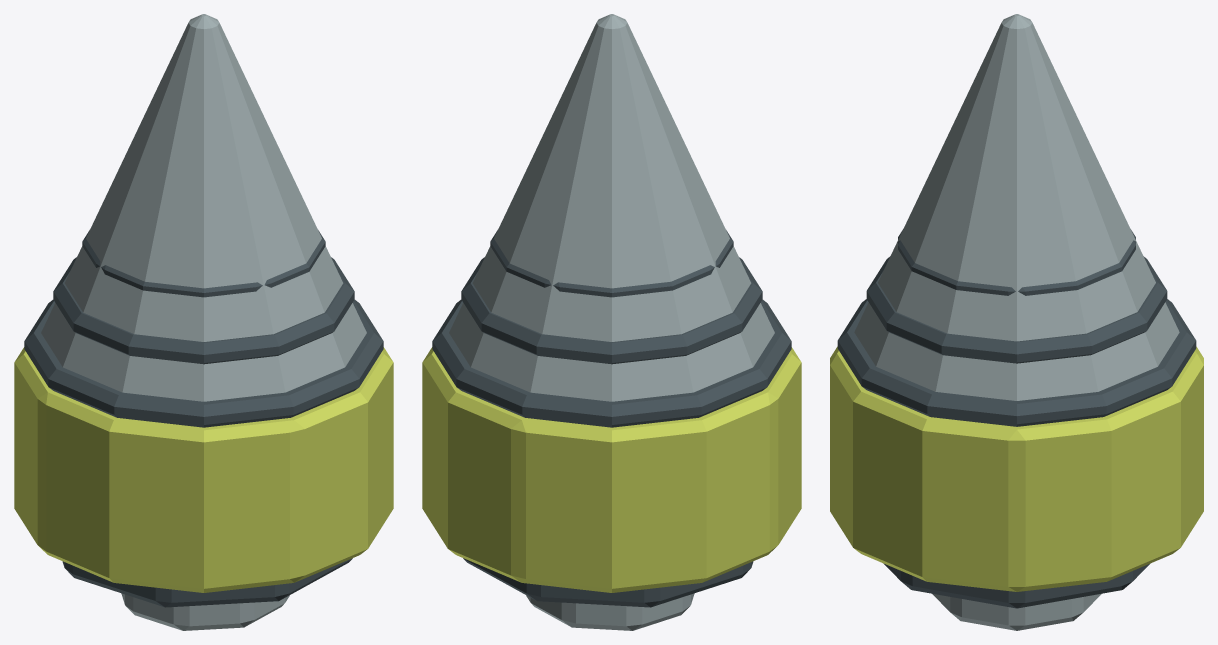
Rendered from drill.glb.
The picture shows the model from 3 angles, left to right: view 1: azimuth 30°, elevation 25°; view 2: azimuth 150°, elevation 25°; view 3: azimuth 270°, elevation 25°; orthographic projection.
Visible parts, largest first — view 1: drill_Mesh; view 2: drill_Mesh; view 3: drill_Mesh.
Boxes of the visible parts, x1,y1,x2,y2 form: drill_Mesh: (14, 14, 393, 630); drill_Mesh: (422, 14, 801, 630); drill_Mesh: (830, 14, 1203, 630).
Bounding box in the file's own units: 0.3753 × 0.645 × 0.3753.
